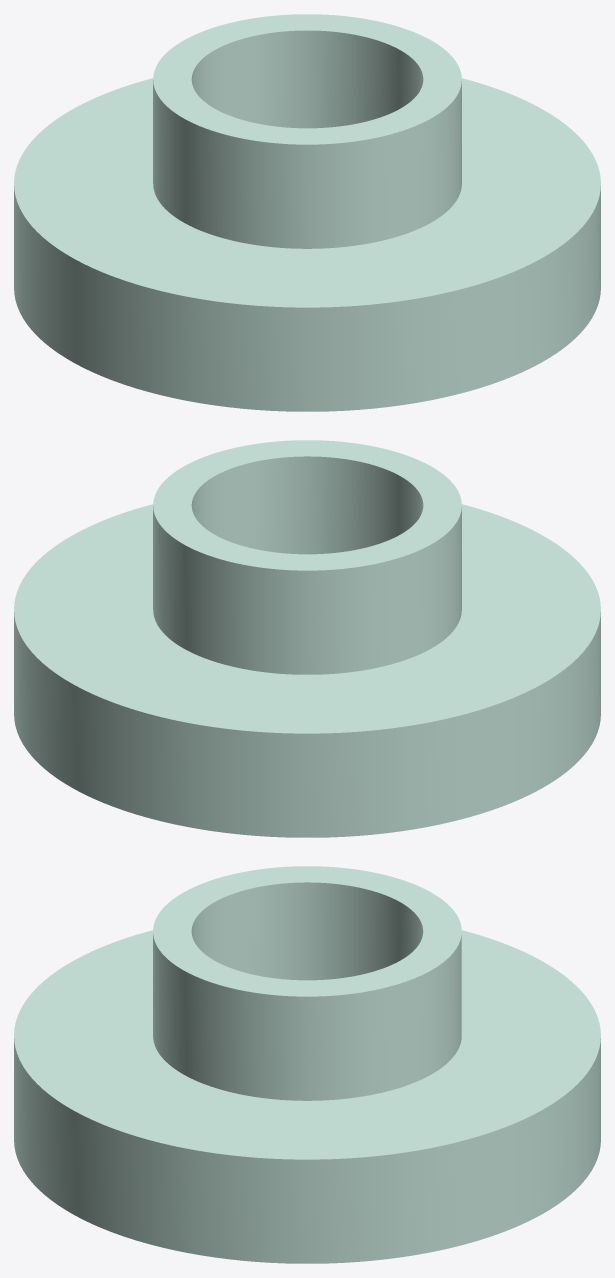
3 views of the same model, one above another, from view 1: azimuth 30°, elevation 25°; view 2: azimuth 150°, elevation 25°; view 3: azimuth 270°, elevation 25° (orthographic).
Visible parts, largest first — view 1: Renderer Node; view 2: Renderer Node; view 3: Renderer Node.
Part boxes in pixels (x1,y1,x2,y2): Renderer Node: [14, 14, 600, 411]; Renderer Node: [14, 440, 600, 837]; Renderer Node: [14, 866, 600, 1263].
Size of the model in its own units: 1.52 by 0.5938 by 1.52.
